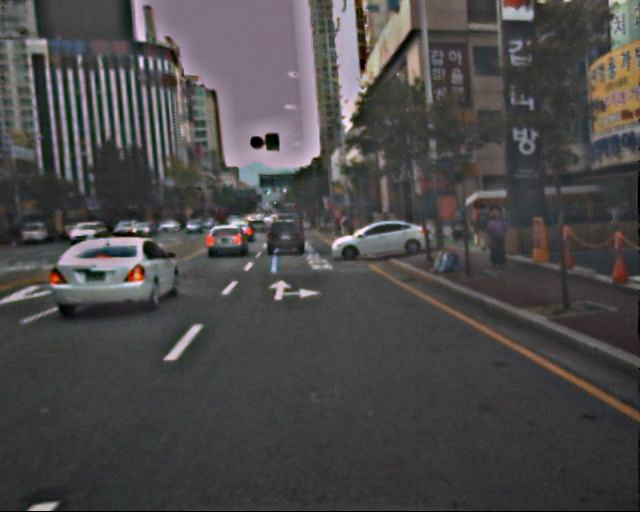person: (483, 206, 510, 273), (471, 200, 492, 252)
